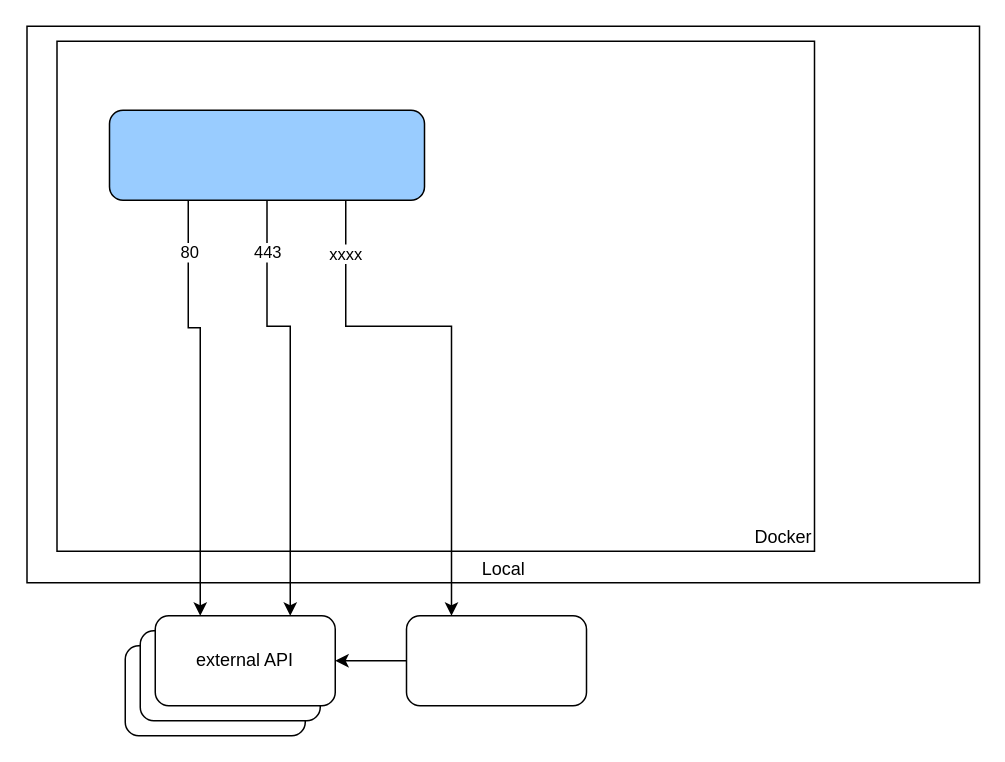
The diagram is 1005 pixels wide and 762 high, and some of its shapes have lost their labels. The shapes that lost their labels are listed below. From the top down, each one's centre as x and y in pixels, then its label:
At point 266,154: "target application container".
At point 495,660: "external proxy".
